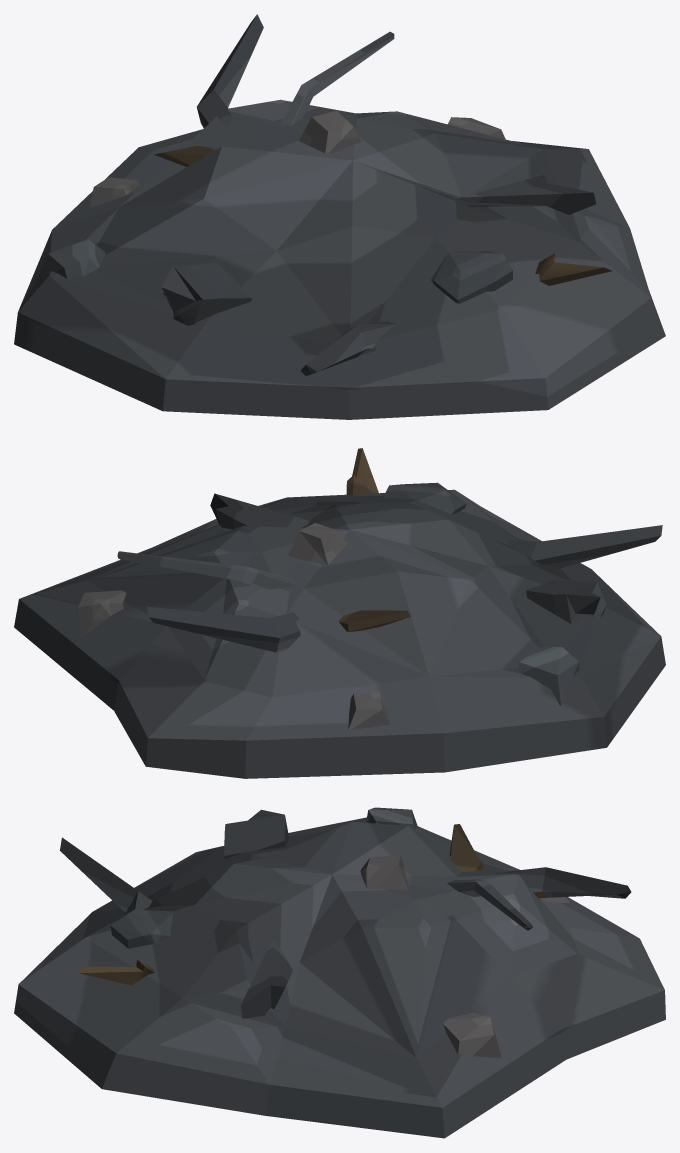
File: crypt_rubble_b.gltf
3 views of the same model, one above another, from view 1: azimuth 30°, elevation 25°; view 2: azimuth 150°, elevation 25°; view 3: azimuth 270°, elevation 25° (orthographic). The views are drawn at different scales.
Parts seen in each view (by area): view 1: crypt_rubble_b; view 2: crypt_rubble_b; view 3: crypt_rubble_b.
Boxes of the visible parts, x1=… form: crypt_rubble_b: x1=14, y1=14, x2=665, y2=419; crypt_rubble_b: x1=14, y1=448, x2=665, y2=778; crypt_rubble_b: x1=14, y1=807, x2=665, y2=1138.
Size of the model in its own units: 2.23 by 0.5379 by 2.2.
Materials: 1 (1 with a texture image).
